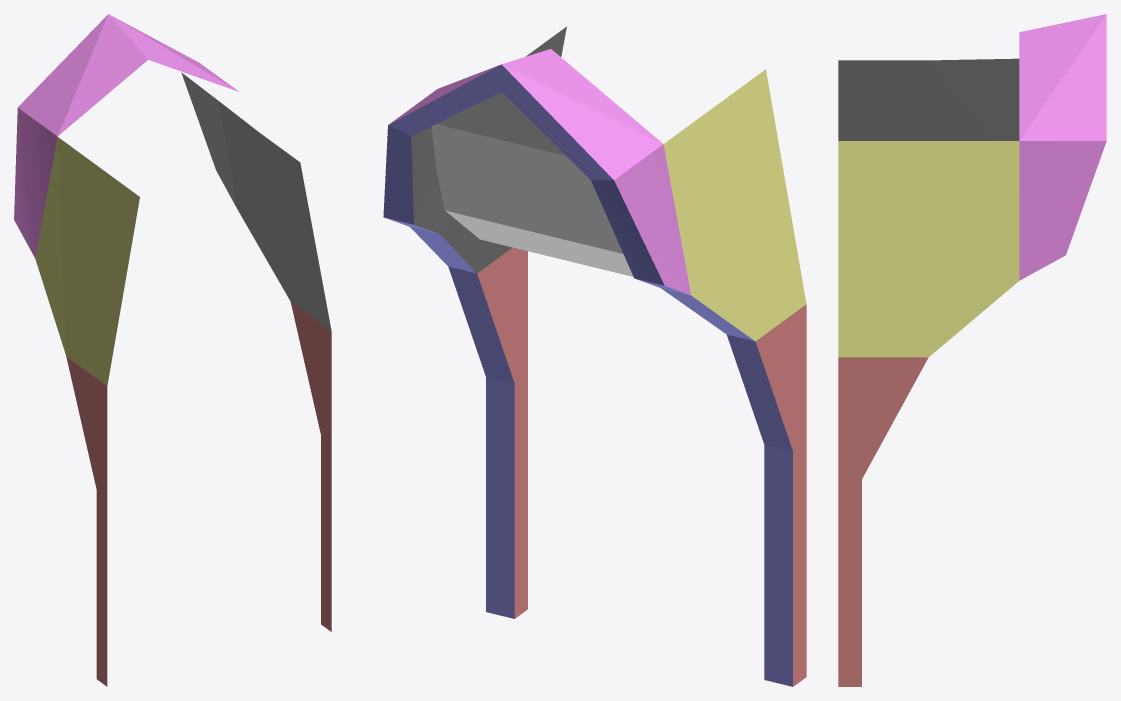
Rendered from sylentemple_sidedoor02.gltf.
3 views of the same model, side by side, from view 1: azimuth 30°, elevation 25°; view 2: azimuth 150°, elevation 25°; view 3: azimuth 270°, elevation 25° (orthographic). The views are drawn at different scales.
Parts seen in each view (by area): view 1: sylentemple_sidedoor02; view 2: sylentemple_sidedoor02; view 3: sylentemple_sidedoor02.
Boxes of the visible parts, <box> form: sylentemple_sidedoor02: <box>14,14,331,686</box>; sylentemple_sidedoor02: <box>383,26,806,686</box>; sylentemple_sidedoor02: <box>838,14,1106,686</box>.
Bounding box in the file's own units: 4 × 8.54 × 3.46.
